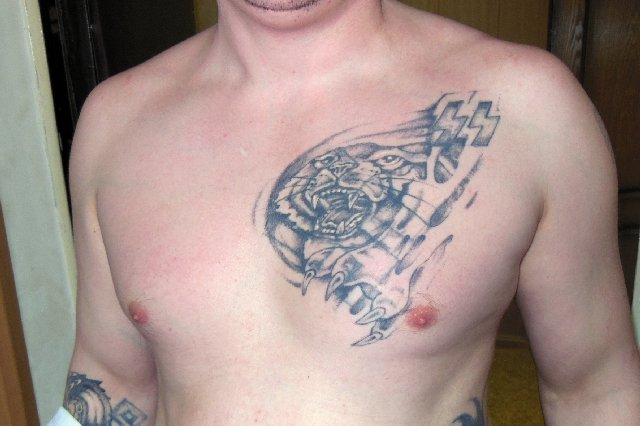tatu5_tigr: (271, 128, 433, 314)
